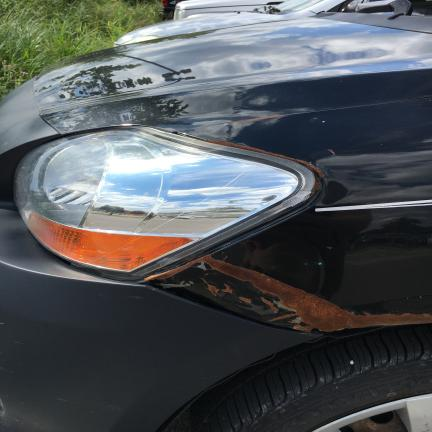karat: (148, 255, 431, 332)
